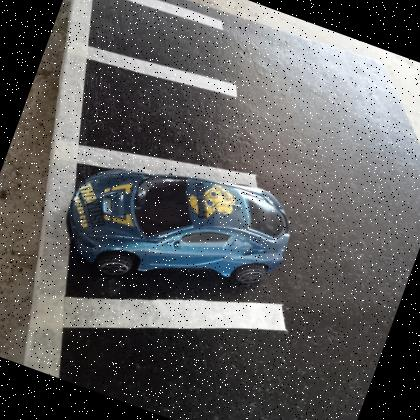Car: (65, 169, 290, 286)
